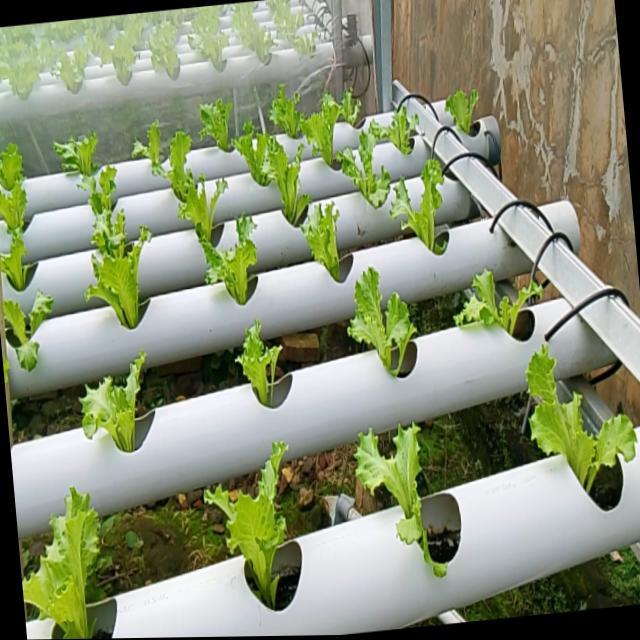Baby: (524, 344, 633, 491), (353, 422, 444, 576), (201, 441, 284, 608), (22, 488, 98, 639), (345, 265, 414, 373), (151, 151, 226, 245), (79, 350, 143, 450), (452, 264, 543, 330), (247, 132, 310, 226), (186, 89, 247, 179), (388, 156, 445, 252), (88, 240, 141, 328), (335, 122, 389, 208), (300, 88, 359, 166), (1, 290, 52, 371), (88, 185, 131, 277), (234, 318, 279, 404), (299, 201, 342, 280), (216, 216, 255, 303), (369, 98, 418, 153), (129, 119, 167, 176), (0, 149, 25, 234), (51, 130, 96, 175), (267, 82, 302, 137), (443, 85, 477, 128)
